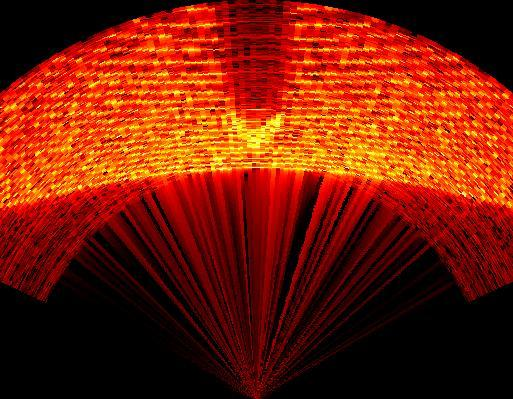box_crate: (213, 4, 292, 124)
